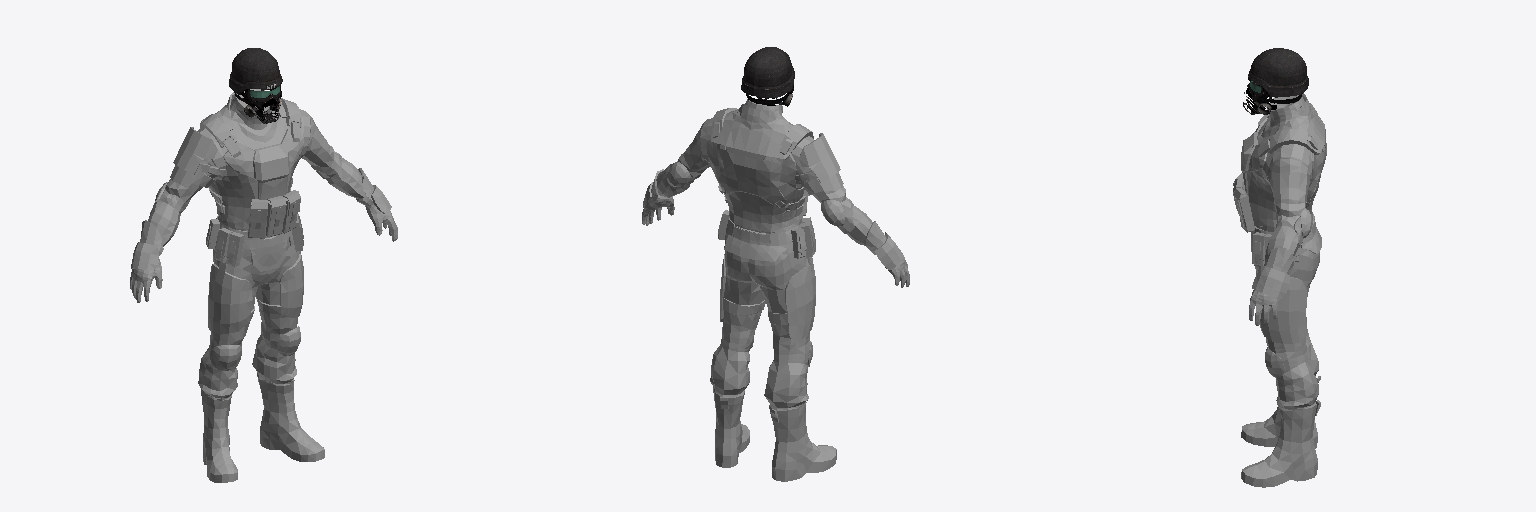
The picture shows the model from 3 angles: view 1: azimuth 30°, elevation 25°; view 2: azimuth 150°, elevation 25°; view 3: azimuth 270°, elevation 25°; orthographic projection.
Parts seen in each view (by area): view 1: EDF_Body, EDF_Helmet; view 2: EDF_Body, EDF_Helmet; view 3: EDF_Body, EDF_Helmet.
Part boxes in pixels (x1,y1,x2,y2): EDF_Body: (130,89,397,482); EDF_Helmet: (229,48,282,123); EDF_Body: (642,99,909,481); EDF_Helmet: (741,47,794,106); EDF_Body: (1233,93,1326,487); EDF_Helmet: (1243,48,1308,114).
Size of the model in its own units: 2.52 by 3.8 by 0.7879.
2 materials, 1 textured.